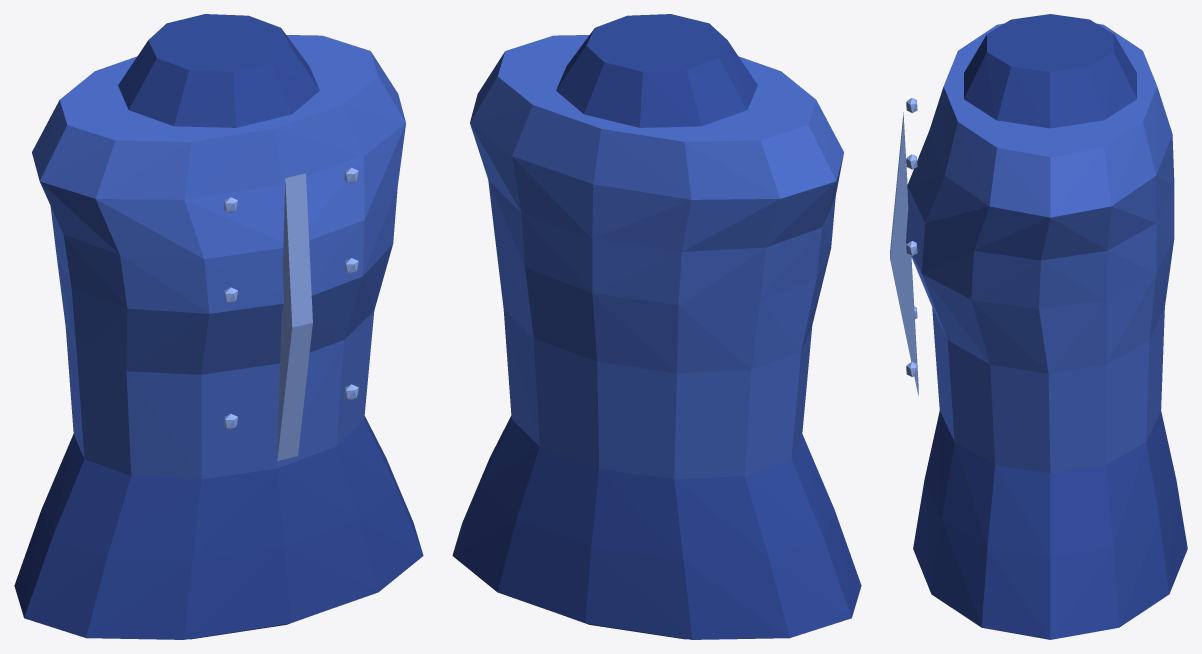
File: gear_mithril_body_torso_f.glb
3 renders of one model, left to right at view 1: azimuth 30°, elevation 25°; view 2: azimuth 150°, elevation 25°; view 3: azimuth 270°, elevation 25°, orthographic. The views are drawn at different scales.
Parts seen in each view (by area): view 1: gear_mithril_body_torso_f; view 2: gear_mithril_body_torso_f; view 3: gear_mithril_body_torso_f.
Boxes of the visible parts, left/top/right/bottom form: gear_mithril_body_torso_f: left=14, top=14, right=423, bottom=639; gear_mithril_body_torso_f: left=452, top=14, right=861, bottom=639; gear_mithril_body_torso_f: left=890, top=14, right=1187, bottom=639.
Size of the model in its own units: 0.452 by 0.59 by 0.312.
